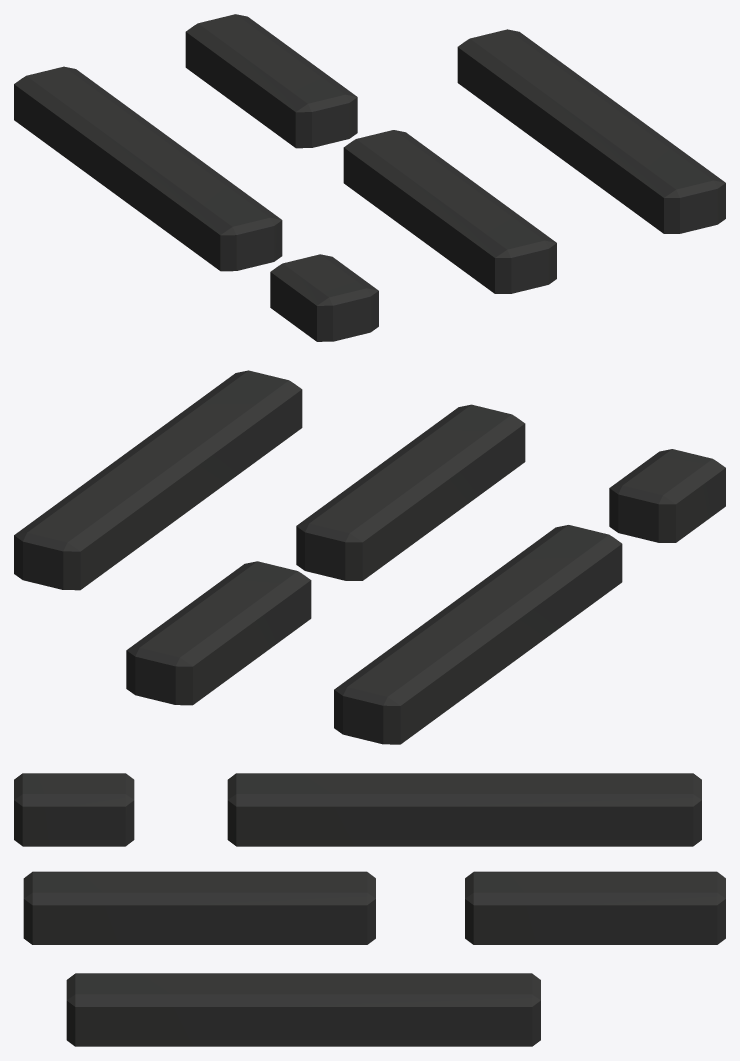
Rendered from Signs_1_2.glb.
3 renders of one model, top to bottom at view 1: azimuth 30°, elevation 25°; view 2: azimuth 150°, elevation 25°; view 3: azimuth 270°, elevation 25°, orthographic. The views are drawn at different scales.
Parts seen in each view (by area): view 1: Signs_1_2; view 2: Signs_1_2; view 3: Signs_1_2.
Boxes of the visible parts, <box> form: Signs_1_2: <box>14,14,725,341</box>; Signs_1_2: <box>14,370,725,744</box>; Signs_1_2: <box>14,773,725,1046</box>.
Bounding box in the file's own units: 0.3627 × 0.0331 × 0.4668.
Materials: 1 (1 with a texture image).
